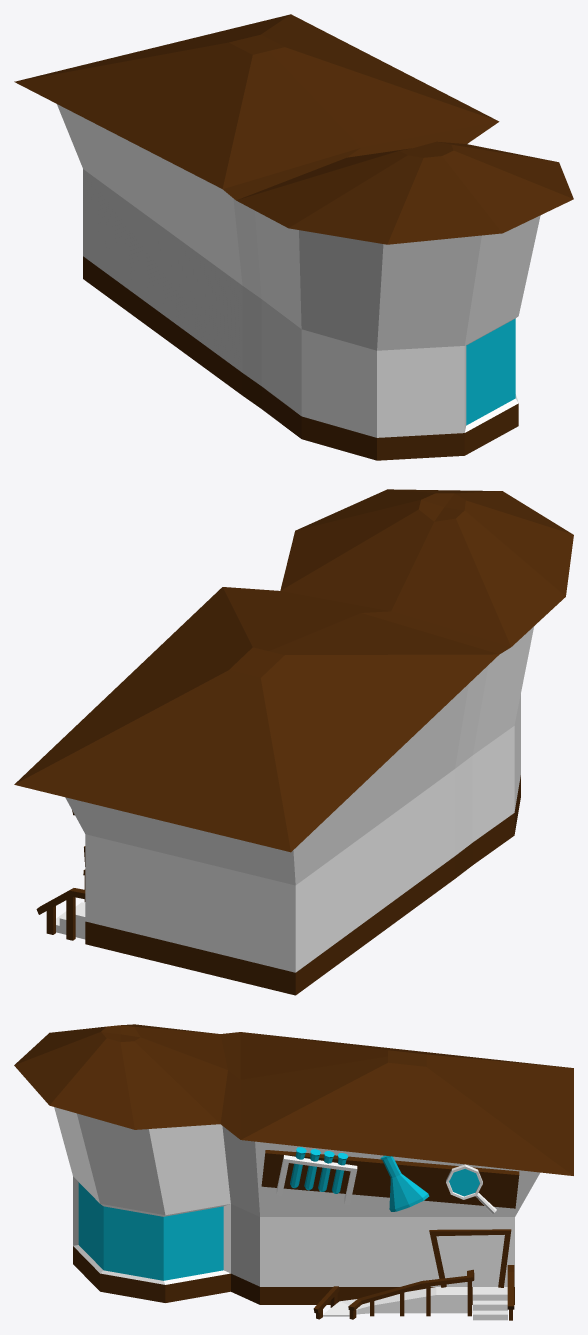
The model's file is 14.06_Bubuia_laboratorio1-0.fbx.
3 renders of one model, top to bottom at view 1: azimuth 30°, elevation 25°; view 2: azimuth 150°, elevation 25°; view 3: azimuth 270°, elevation 25°, orthographic. The views are drawn at different scales.
Parts seen in each view (by area): view 1: Cube; view 2: Cube; view 3: Cube.
Boxes of the visible parts, x1,y1,x2,y2 form: Cube: (14, 14, 573, 460); Cube: (14, 489, 573, 995); Cube: (14, 1024, 573, 1320).
Size of the model in its own units: 8.49 by 8.02 by 17.62.
